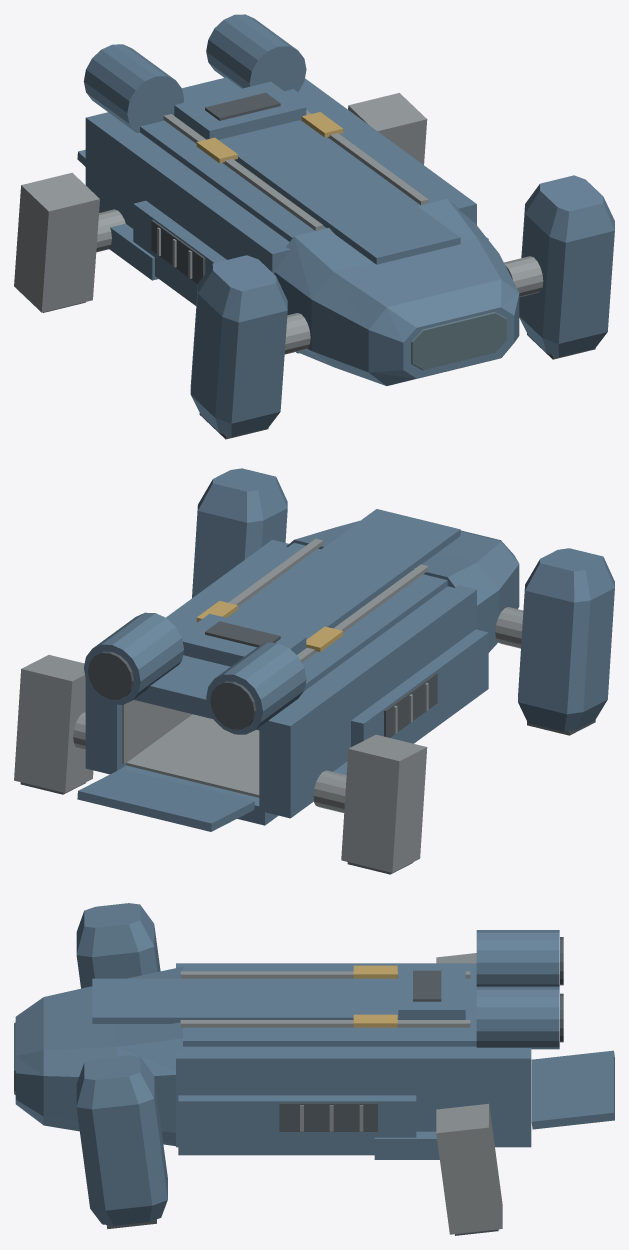
The model's file is shipit_blue_cargo_open.glb.
3 renders of one model, top to bottom at view 1: azimuth 30°, elevation 25°; view 2: azimuth 150°, elevation 25°; view 3: azimuth 270°, elevation 25°, orthographic. The views are drawn at different scales.
Parts seen in each view (by area): view 1: body_0, engine_L_pivot_housing, engine_R_pivot_housing, rear_L_pivot_housing, body_1, body_2, rear_R_pivot_housing, body_4, body_3; view 2: body_0, engine_L_pivot_housing, body_1, rear_L_pivot_housing, rear_R_pivot_housing, engine_R_pivot_housing, body_4, cargo_ramp_panel, body_3; view 3: body_0, engine_R_pivot_housing, rear_R_pivot_housing, cargo_ramp_panel, engine_L_pivot_housing, body_4, body_1, body_3.
Part boxes in pixels (bbox=[...]): body_0: bbox=[83, 14, 519, 385]; engine_L_pivot_housing: bbox=[190, 255, 287, 437]; engine_R_pivot_housing: bbox=[519, 175, 614, 357]; rear_L_pivot_housing: bbox=[14, 172, 99, 312]; body_1: bbox=[96, 110, 543, 354]; body_2: bbox=[411, 312, 506, 370]; rear_R_pivot_housing: bbox=[348, 93, 427, 164]; body_4: bbox=[151, 92, 280, 283]; body_3: bbox=[196, 112, 343, 163]; body_0: bbox=[84, 509, 519, 825]; engine_L_pivot_housing: bbox=[518, 548, 614, 731]; body_1: bbox=[73, 538, 523, 812]; rear_L_pivot_housing: bbox=[341, 734, 427, 872]; rear_R_pivot_housing: bbox=[14, 655, 93, 792]; engine_R_pivot_housing: bbox=[192, 468, 287, 597]; body_4: bbox=[88, 621, 437, 737]; cargo_ramp_panel: bbox=[77, 769, 254, 831]; body_3: bbox=[196, 601, 343, 651]; body_0: bbox=[15, 930, 559, 1159]; engine_R_pivot_housing: bbox=[76, 1055, 167, 1225]; rear_R_pivot_housing: bbox=[436, 1103, 502, 1234]; cargo_ramp_panel: bbox=[531, 1050, 614, 1129]; engine_L_pivot_housing: bbox=[76, 903, 160, 988]; body_4: bbox=[279, 937, 563, 1131]; body_1: bbox=[180, 971, 470, 1131]; body_3: bbox=[353, 965, 397, 1027].
Size of the model in its own units: 2.76 by 1.33 by 3.84.
